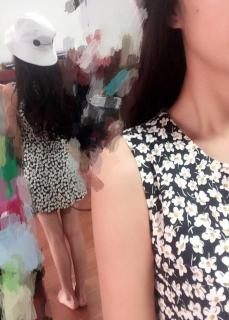vest: (122, 110, 228, 319), (10, 79, 87, 214)
